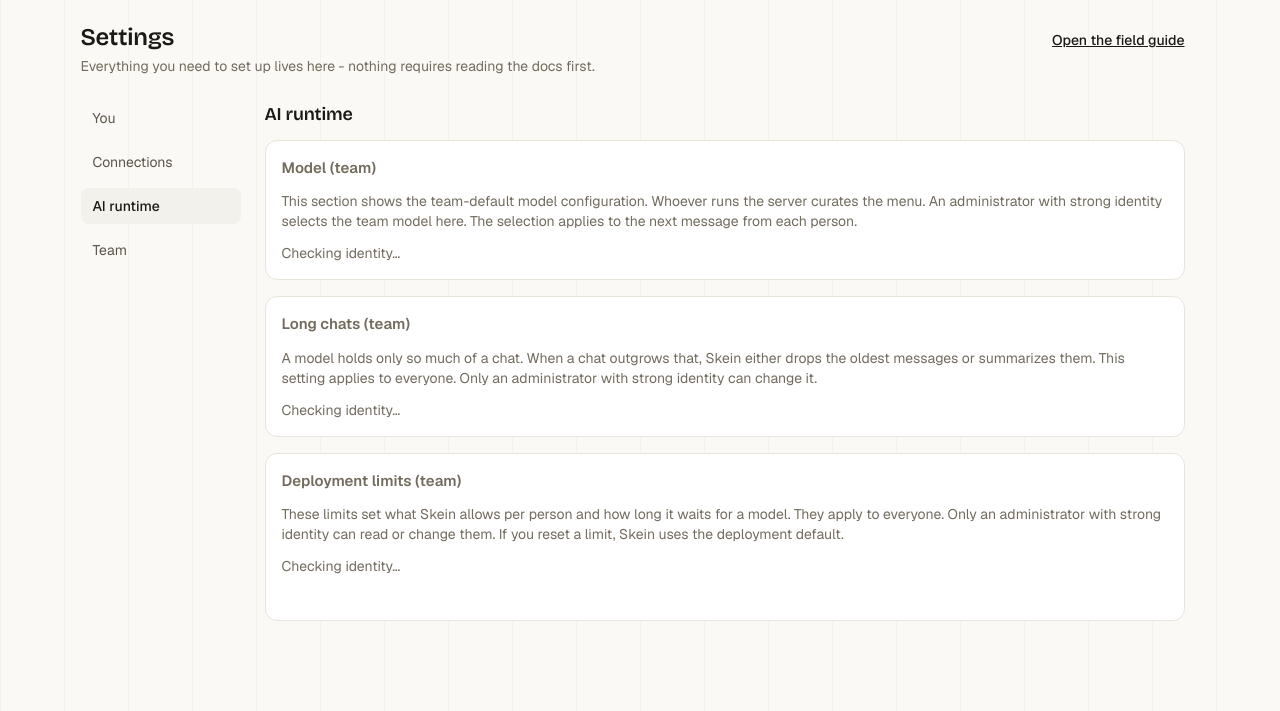
Scenario: the model section › renders the menu with each entry's price and context size
Click the link "AI runtime". click: click(160, 206)
box: [80, 188, 240, 224]
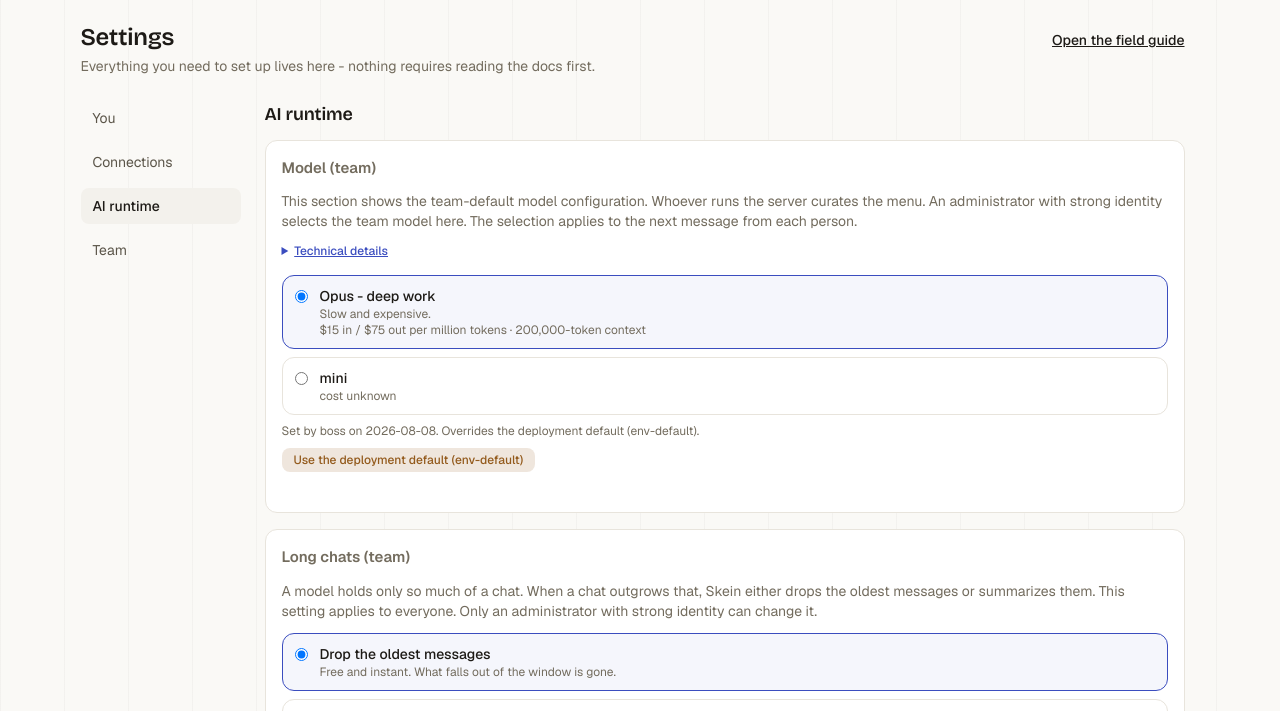
Check: the text "Opus - deep work" is shown, box [320, 287, 436, 305]
Check: the text "$15 in / $75 out per million tokens · 200,000-token context" is shown, box [320, 322, 646, 338]
Check: the label "mini cost unknown" is shown, box [282, 357, 1168, 415]
